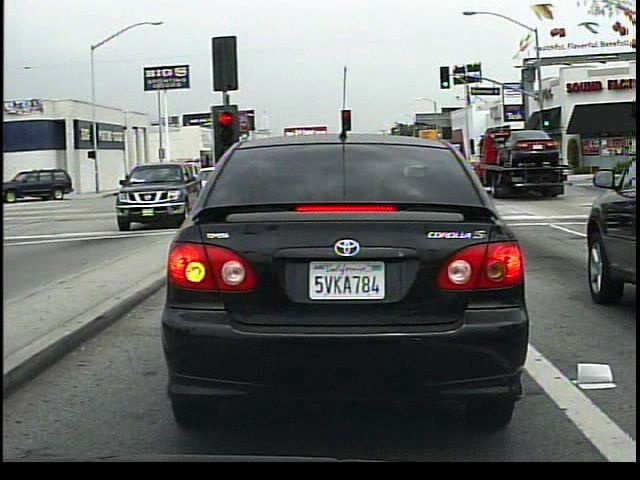person: (177, 170, 198, 196)
